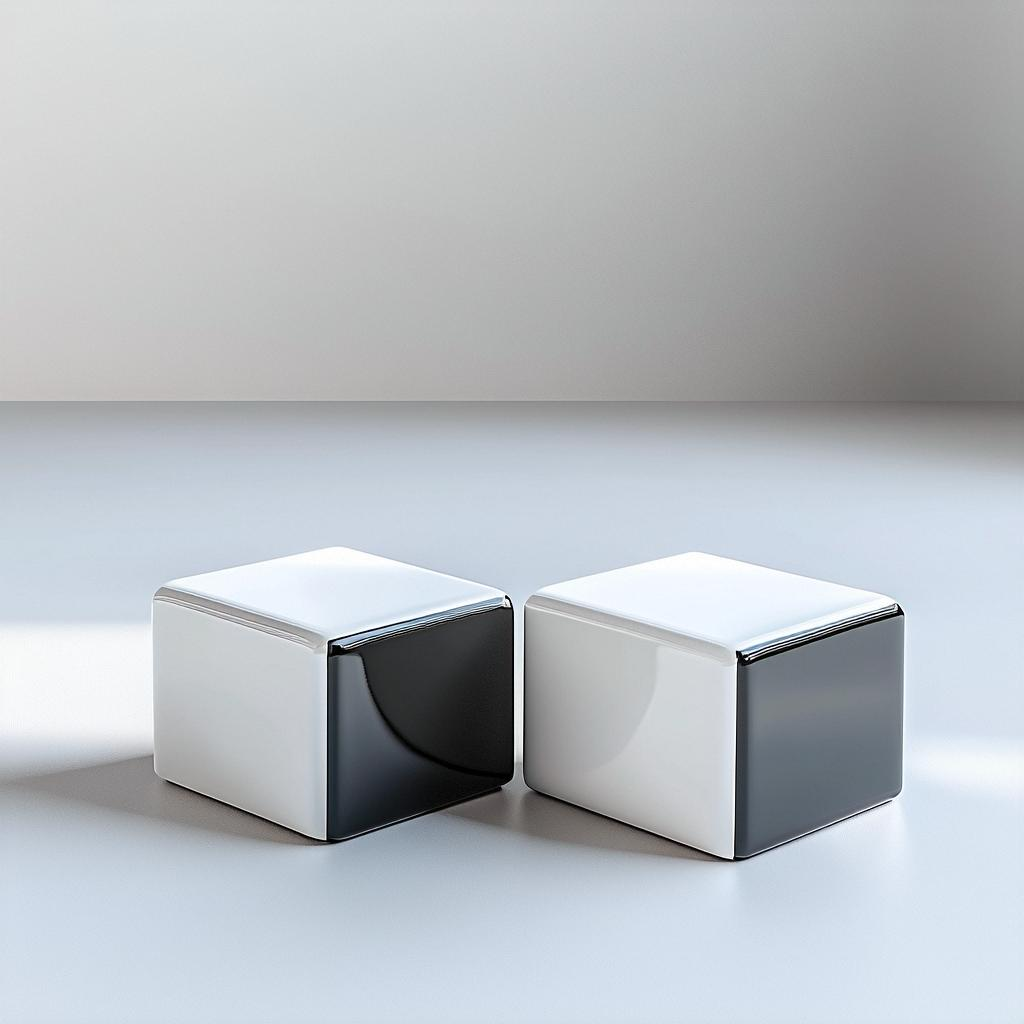cube: (522, 548, 905, 861), (150, 543, 515, 843)
